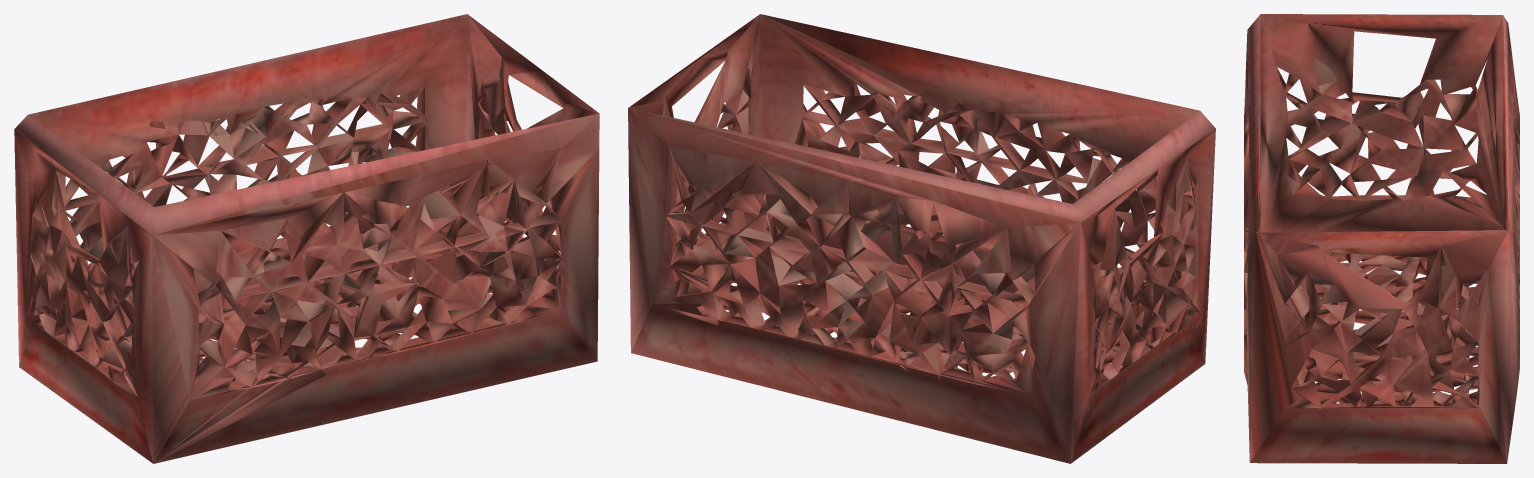
File: yardprop_plastic_crate_03.glb
3 views of the same model, side by side, from view 1: azimuth 30°, elevation 25°; view 2: azimuth 150°, elevation 25°; view 3: azimuth 270°, elevation 25° (orthographic). The views are drawn at different scales.
Visible parts, largest first — view 1: plastic_crate_03; view 2: plastic_crate_03; view 3: plastic_crate_03.
Part boxes in pixels (bbox=[...]): plastic_crate_03: bbox=[14, 14, 599, 463]; plastic_crate_03: bbox=[628, 14, 1215, 463]; plastic_crate_03: bbox=[1244, 14, 1519, 463].
Bounding box in the file's own units: 0.4821 × 0.2599 × 0.265.
1 material, 1 textured.
